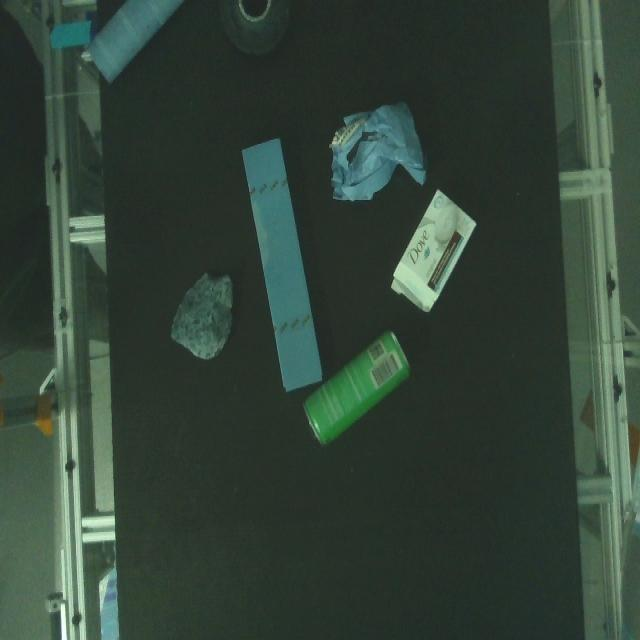non-paper: (302, 328, 412, 448), (165, 261, 239, 366), (216, 0, 304, 65)
paper: (241, 137, 324, 394), (389, 188, 482, 314), (79, 0, 197, 89), (328, 100, 427, 202)
